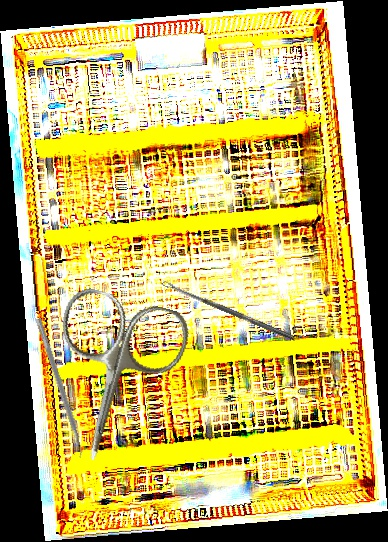Iris Scissors: (28, 283, 196, 476)
Spatula Surgical: (28, 317, 89, 460)
Surgical Spoon: (161, 279, 295, 341)
